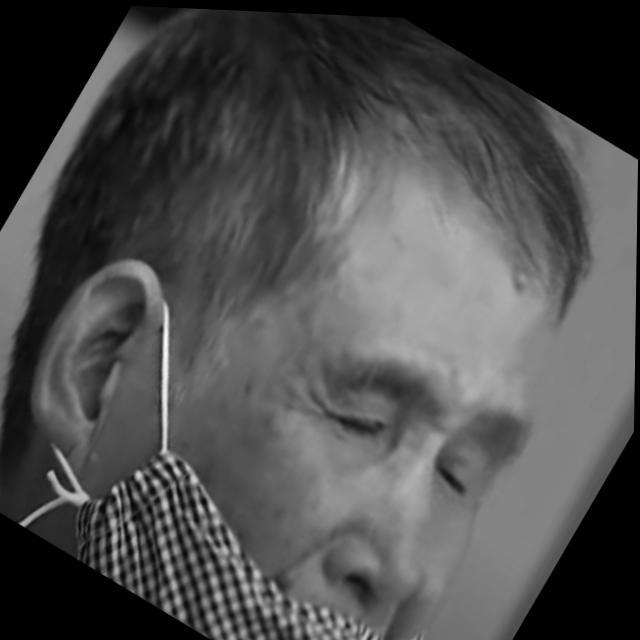hairnet: (60, 229, 563, 639)
